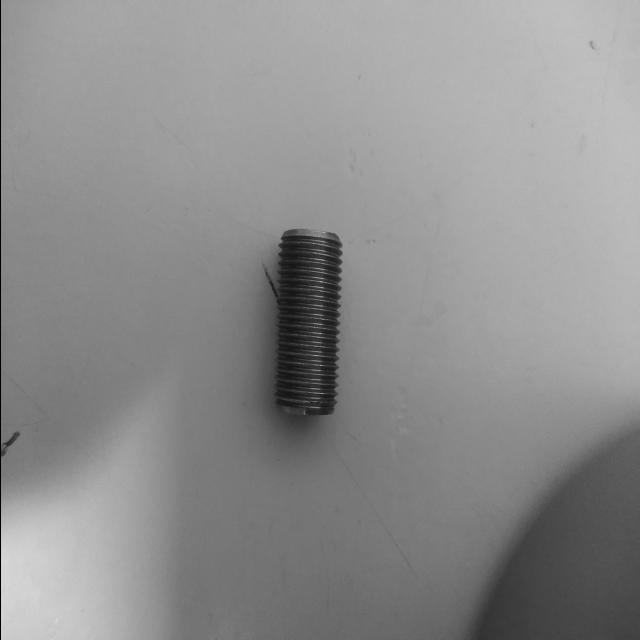Normal: (271, 229, 343, 416)
